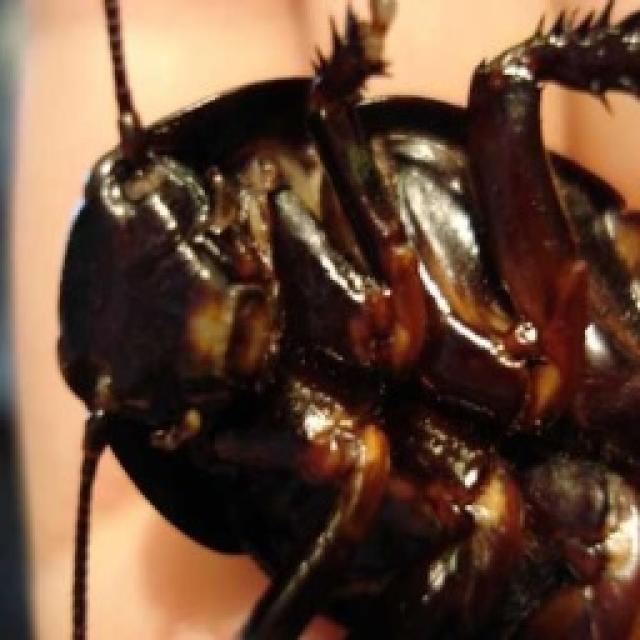cockroach: (54, 3, 638, 637)
